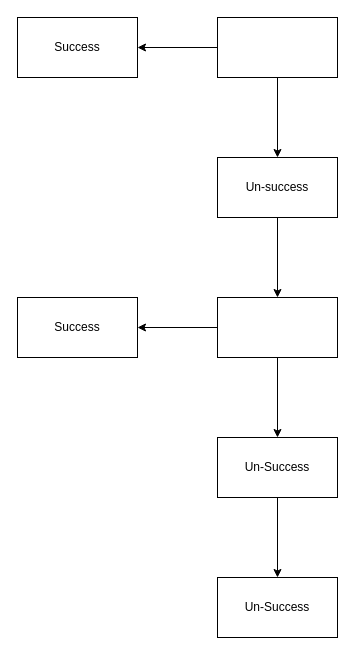
This 355x655 diagram has some shape labels left out. The centre of each missing label's shape, as x and y in pixels:
Log In Attempt: the point at 277,47
New User Create: the point at 277,327
